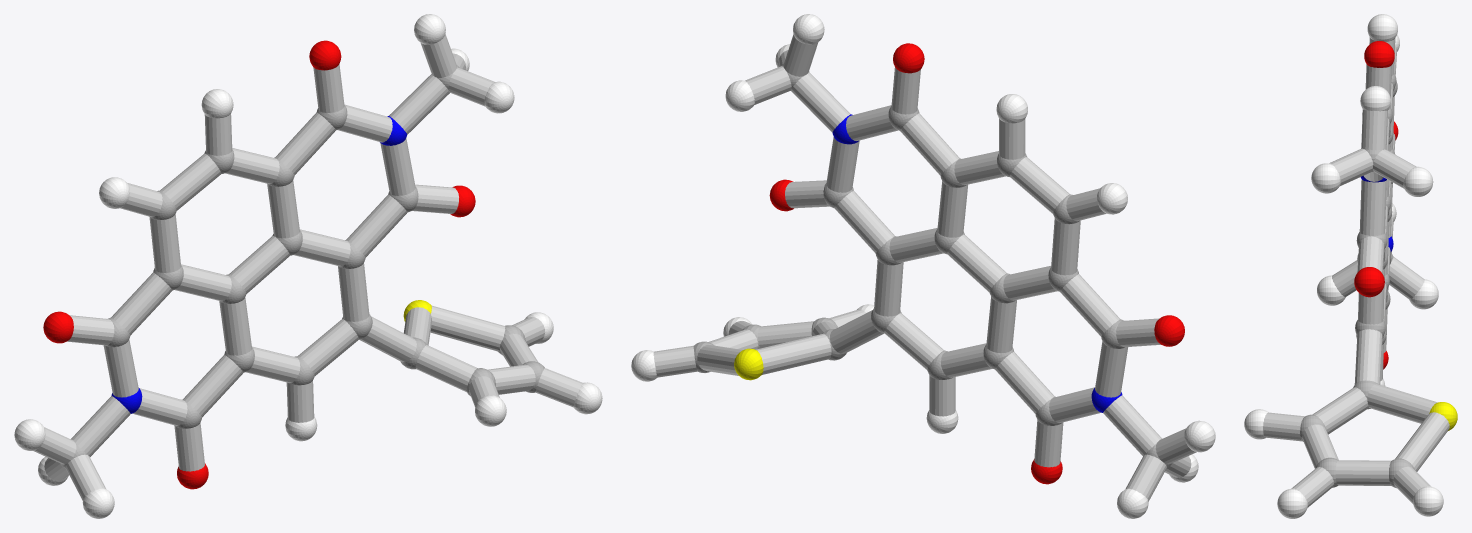
Rendered from Dimethyl_Naphthalene_Dicarboximide_Phi_20_Theta_100_Thiophene.glb.
3 views of the same model, side by side, from view 1: azimuth 30°, elevation 25°; view 2: azimuth 150°, elevation 25°; view 3: azimuth 270°, elevation 25° (orthographic). The views are drawn at different scales.
Visible parts, largest first — view 1: grp14119, grp7241, grp1, grp12309, grp11585; view 2: grp14119, grp7241, grp1, grp12309, grp13757, grp11585; view 3: grp14119, grp7241, grp1, grp12309, grp13757.
Boxes of the visible parts, left/top/right/bottom form: grp14119: left=33, top=34, right=582, bottom=500; grp7241: left=14, top=14, right=602, bottom=518; grp1: left=61, top=65, right=544, bottom=468; grp12309: left=43, top=40, right=475, bottom=489; grp11585: left=111, top=116, right=406, bottom=413; grp14119: left=653, top=34, right=1196, bottom=501; grp7241: left=631, top=14, right=1215, bottom=518; grp1: left=693, top=63, right=1171, bottom=467; grp12309: left=769, top=43, right=1184, bottom=484; grp13757: left=734, top=348, right=763, bottom=380; grp11585: left=832, top=114, right=1122, bottom=412; grp14119: left=1263, top=37, right=1449, bottom=507; grp7241: left=1244, top=14, right=1443, bottom=518; grp1: left=1300, top=73, right=1414, bottom=488; grp12309: left=1354, top=41, right=1398, bottom=369; grp13757: left=1429, top=402, right=1457, bottom=430.
Size of the model in its own units: 12.13 by 8.56 by 4.18.
